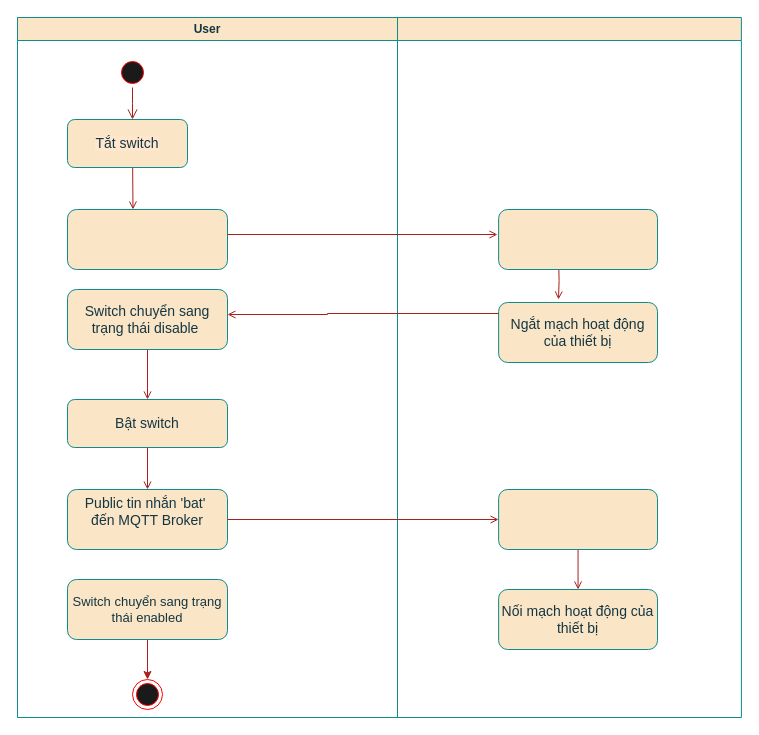
Image size: 759x735. Some labels were removed from this diagram. The box of each missing label's shape, as (x1, y1, x2, y2) in pixels:
Public tin nhắn 'tat' đến MQTT Broker: (66, 208, 228, 270)
Subcribe tin nhăn ''tat từ MQTT broker: (498, 208, 658, 270)
Subcribe tin nhắn 'bat' tu MQTT Broker: (498, 488, 658, 550)
System: (396, 16, 741, 718)
